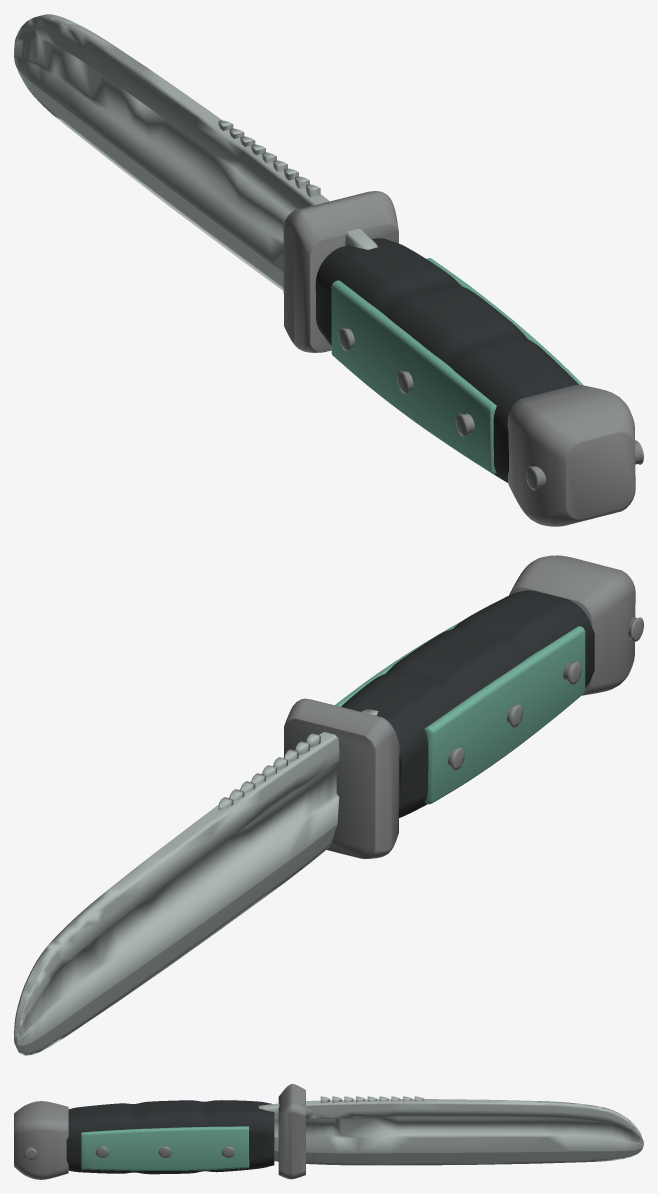
The model's file is knife.glb.
3 views of the same model, one above another, from view 1: azimuth 30°, elevation 25°; view 2: azimuth 150°, elevation 25°; view 3: azimuth 270°, elevation 25° (orthographic). The views are drawn at different scales.
Visible parts, largest first — view 1: Blade, HandleBody, LanyardTube_Batched, InlayLeft_Batched, GuardBody, GripPin0_Batched; view 2: Blade, HandleBody, InlayLeft_Batched, GuardBody, LanyardTube_Batched, GripPin0_Batched; view 3: Blade, HandleBody, InlayLeft_Batched, LanyardTube_Batched, GuardBody, GripPin0_Batched.
Boxes of the visible parts, <box> form: Blade: <box>14,14,377,290</box>; HandleBody: <box>315,238,578,482</box>; LanyardTube_Batched: <box>507,384,643,526</box>; InlayLeft_Batched: <box>331,258,583,473</box>; GuardBody: <box>283,191,398,352</box>; GripPin0_Batched: <box>338,327,474,436</box>; Blade: <box>14,709,378,1055</box>; HandleBody: <box>341,590,594,817</box>; InlayLeft_Batched: <box>335,622,585,804</box>; GuardBody: <box>283,698,399,858</box>; LanyardTube_Batched: <box>509,555,643,695</box>; GripPin0_Batched: <box>448,661,581,770</box>; Blade: <box>258,1099,643,1165</box>; HandleBody: <box>66,1100,274,1174</box>; InlayLeft_Batched: <box>81,1126,249,1170</box>; LanyardTube_Batched: <box>14,1101,68,1179</box>; GuardBody: <box>278,1084,305,1179</box>; GripPin0_Batched: <box>95,1145,234,1158</box>.
Size of the model in its own units: 0.0342 by 0.0403 by 0.3.
